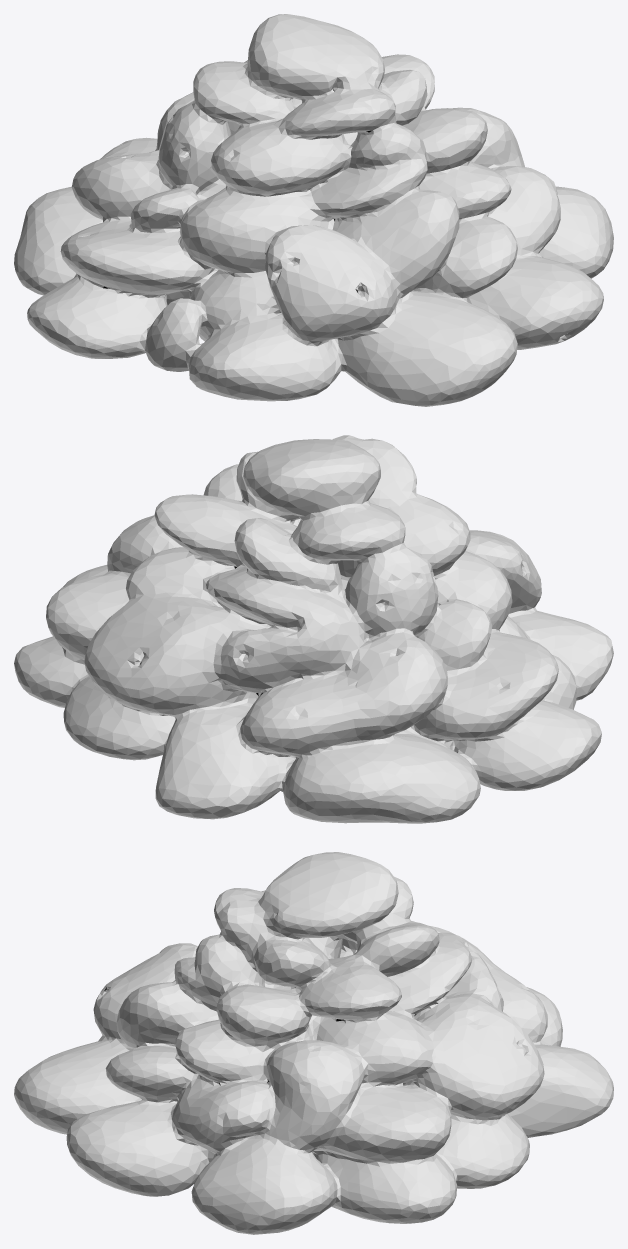
File: pebbles01.glb
3 renders of one model, top to bottom at view 1: azimuth 30°, elevation 25°; view 2: azimuth 150°, elevation 25°; view 3: azimuth 270°, elevation 25°, orthographic. The views are drawn at different scales.
Parts seen in each view (by area): view 1: Low; view 2: Low; view 3: Low.
Boxes of the visible parts, <box> form: Low: <box>14,14,613,406</box>; Low: <box>14,435,613,823</box>; Low: <box>14,852,613,1234</box>.
Size of the model in its own units: 1.99 by 0.9422 by 1.99.
1 material, 1 textured.
